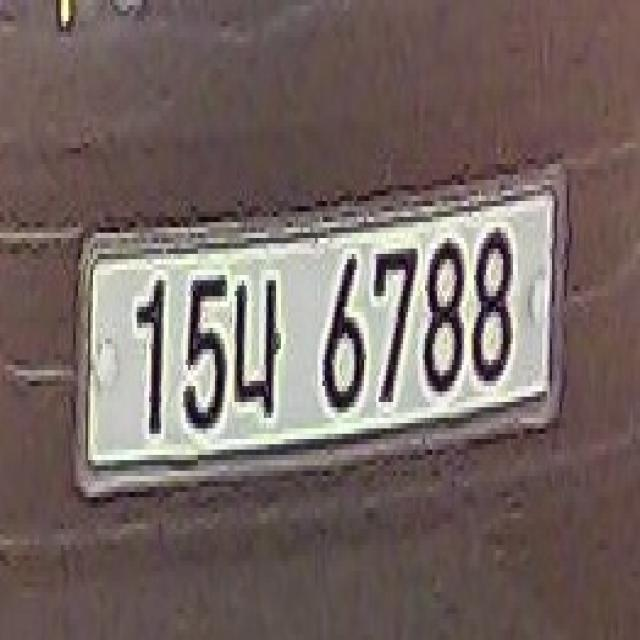1: (129, 264, 176, 455)
5: (176, 264, 232, 450)
6: (318, 243, 371, 434)
7: (374, 233, 425, 423)
8: (422, 232, 472, 412), (469, 222, 518, 402)
license_plate: (74, 148, 576, 518)
na: (230, 259, 290, 439)
